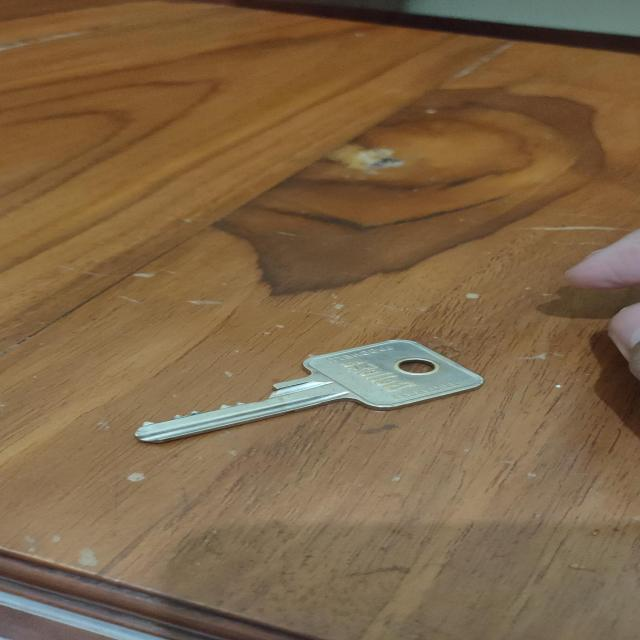kunci_kos: (126, 334, 500, 454)
